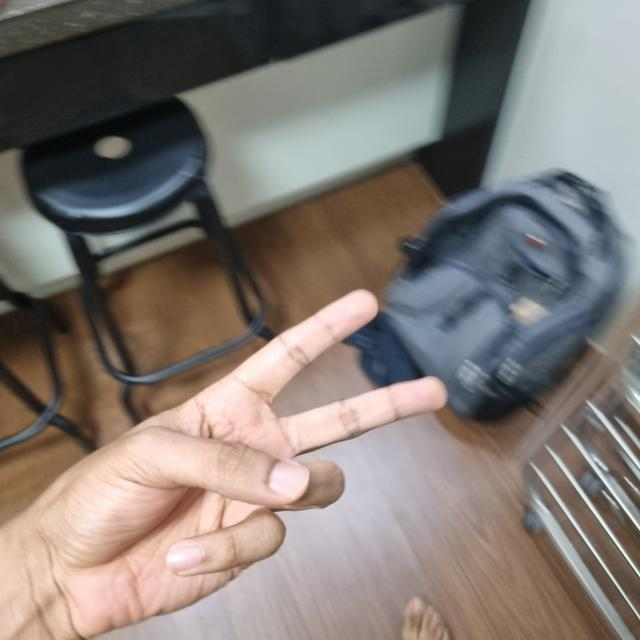Scissors: (14, 291, 438, 639)
